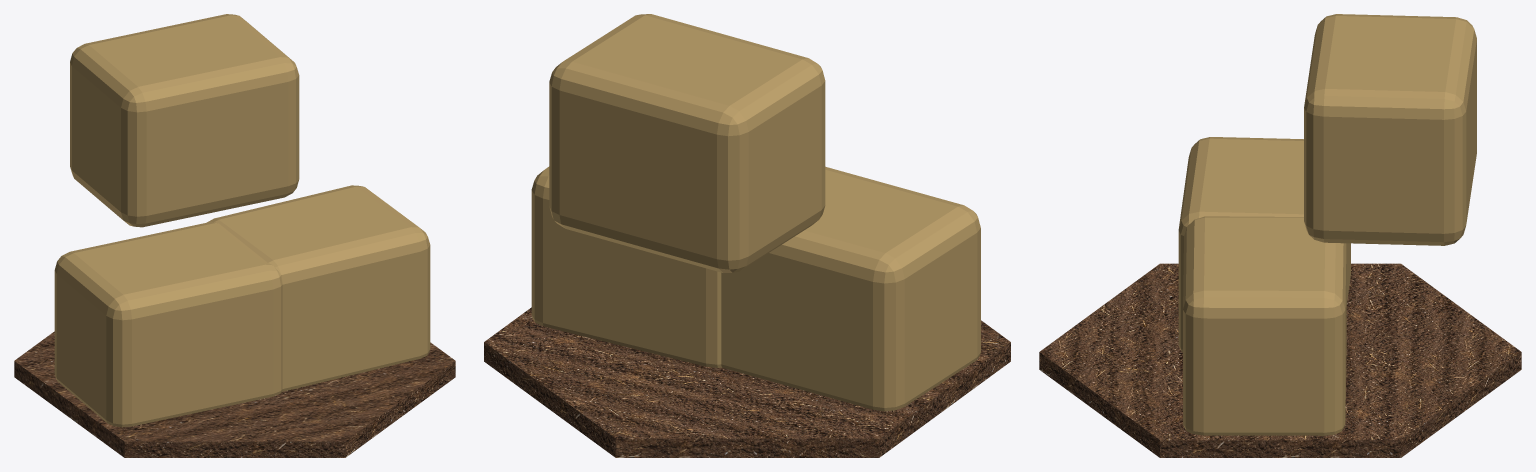
Rendered from hay-bales-v02.glb.
The picture shows the model from 3 angles, left to right: view 1: azimuth 30°, elevation 25°; view 2: azimuth 150°, elevation 25°; view 3: azimuth 270°, elevation 25°; orthographic projection. The views are drawn at different scales.
Parts seen in each view (by area): view 1: hay-bales-hex-v01; view 2: hay-bales-hex-v01; view 3: hay-bales-hex-v01.
Boxes of the visible parts, x1,y1,x2,y2 form: hay-bales-hex-v01: (14,14,455,457); hay-bales-hex-v01: (484,14,1010,457); hay-bales-hex-v01: (1039,14,1521,457).
Bounding box in the file's own units: 1.59 × 1.33 × 1.84.
3 materials, 1 textured.
